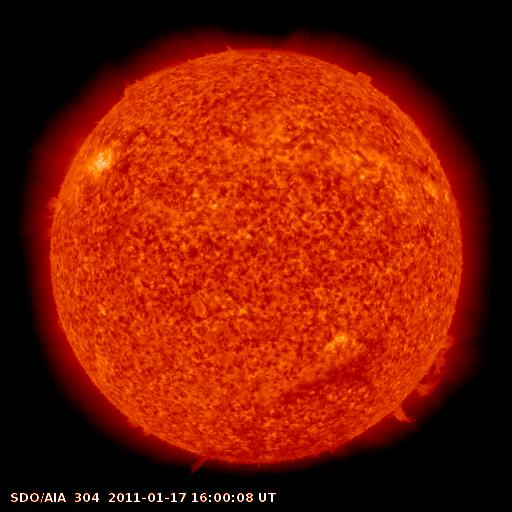prominence: (386, 319, 471, 431), (26, 187, 74, 253), (165, 436, 221, 485), (348, 57, 382, 104)
